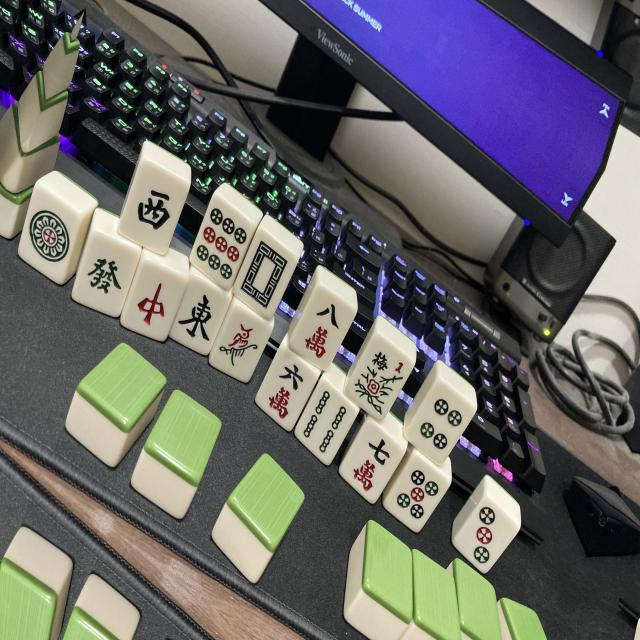1B: (208, 305, 274, 383)
1D: (5, 184, 91, 284)
1F: (341, 333, 414, 420)
3D: (450, 492, 522, 575)
4B: (290, 380, 360, 464)
4D: (400, 380, 478, 468)
5D: (380, 454, 452, 537)
6C: (252, 352, 322, 432)
7C: (333, 418, 407, 502)
8C: (286, 288, 362, 373)
9D: (188, 196, 261, 290)
EW: (169, 277, 235, 356)
GD: (66, 232, 141, 318)
RD: (118, 262, 188, 344)
WD: (228, 230, 304, 320)
WW: (114, 160, 191, 251)
